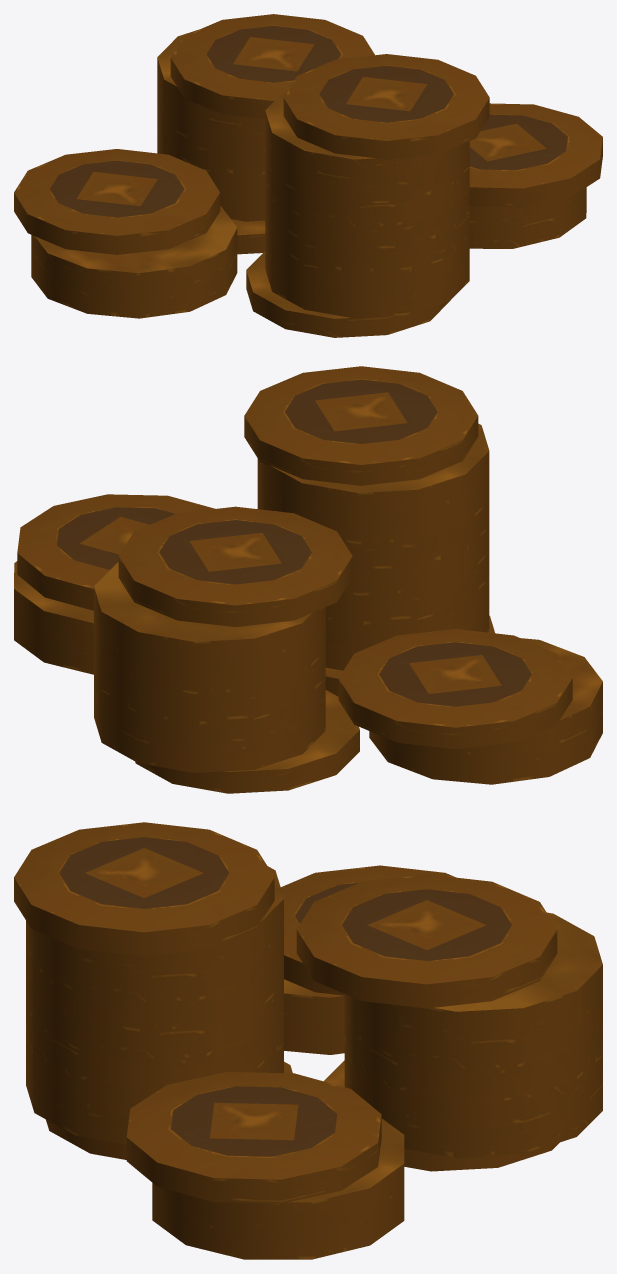
The model's file is coin_pile.glb.
3 renders of one model, top to bottom at view 1: azimuth 30°, elevation 25°; view 2: azimuth 150°, elevation 25°; view 3: azimuth 270°, elevation 25°, orthographic. The views are drawn at different scales.
Parts seen in each view (by area): view 1: Coin_Pile; view 2: Coin_Pile; view 3: Coin_Pile.
Part boxes in pixels (x1,y1,x2,y2): Coin_Pile: (14, 14, 602, 337); Coin_Pile: (14, 366, 602, 793); Coin_Pile: (14, 822, 602, 1259).
Bounding box in the file's own units: 0.1975 × 0.0735 × 0.1542.
1 material, 1 textured.
